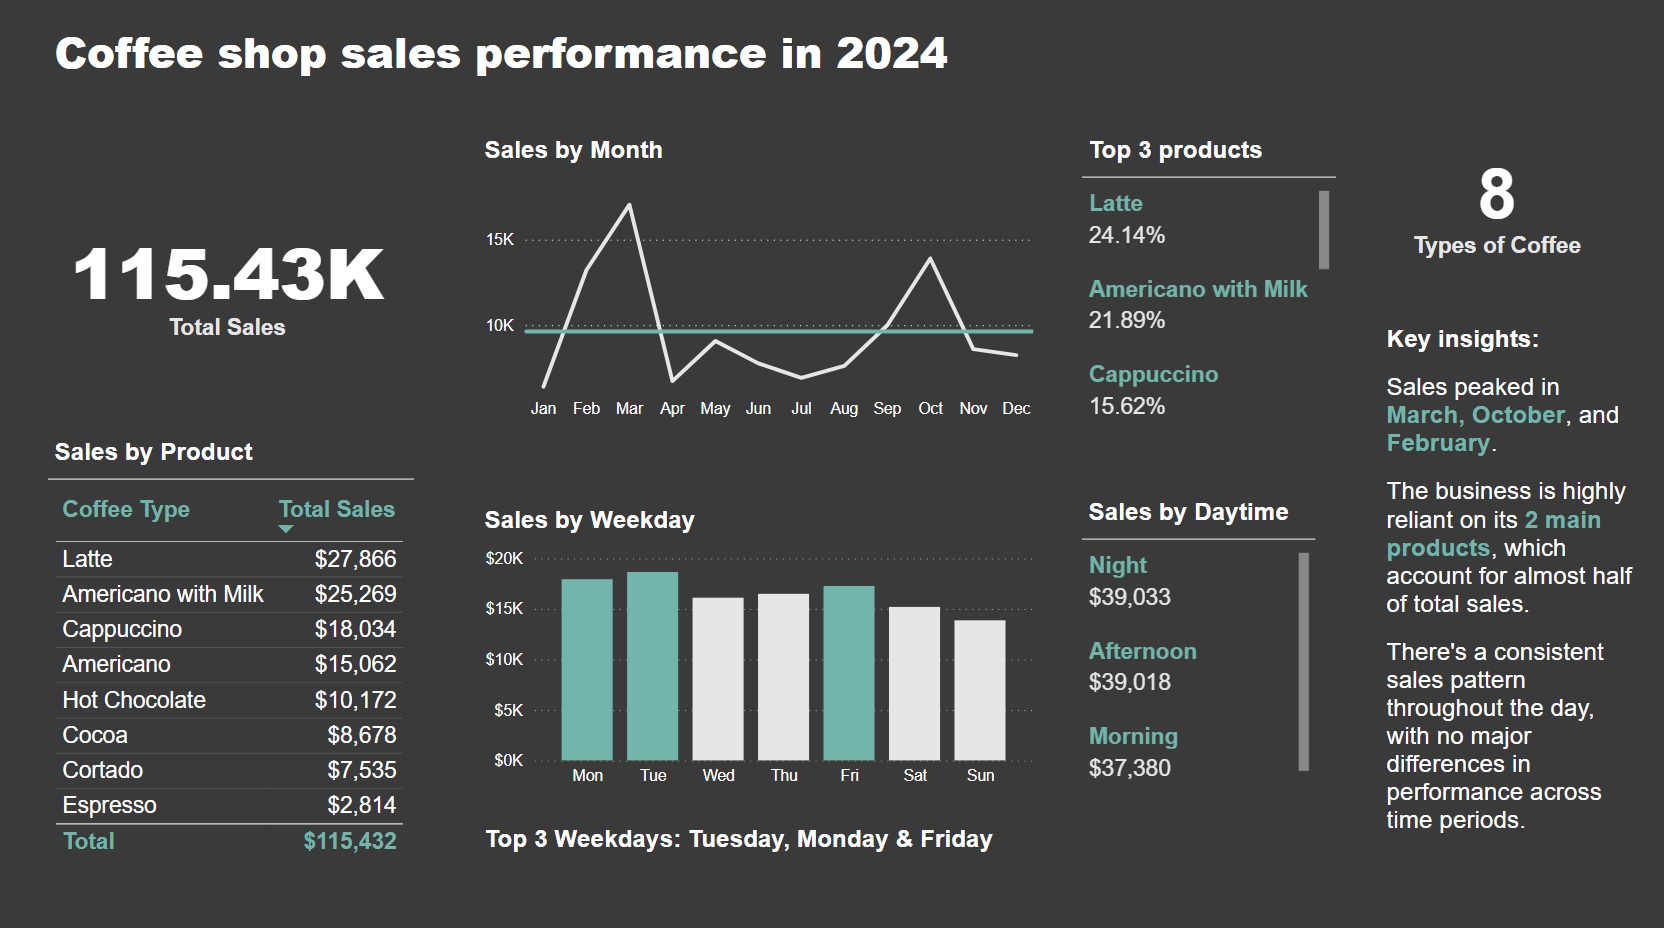

This screenshot's page, from the dashboard's own definition file:
{"tool":"powerbi","page":{"name":"Page 1","canvas":[1280,720],"ordinal":0},"visuals":[{"type":"card","fields":{"Values":["Sum(Table_1.money)"]},"box":[42.1,124.7,274.3,193.2],"z":0},{"type":"columnChart","title":"Sales by Weekday","fields":{"Category":["Table_1.Weekday"],"Y":["Sum(Table_1.money)"]},"box":[370.9,392.7,430.1,222.9],"z":1000},{"type":"multiRowCard","title":"Top 3 products","fields":{"Values":["Table_1.coffee_name","Sum(Table_1.money)"]},"box":[833.4,108.8,194.6,225.2],"z":2000},{"type":"card","fields":{"Values":["Count(Table_1.coffee_name)"]},"box":[1061.6,96.5,179.2,124.1],"z":3000},{"type":"textbox","box":[41.4,16.9,738.4,55.1],"z":4000},{"type":"tableEx","title":"Sales by Product","fields":{"Values":["Table_1.coffee_name","Sum(Table_1.money)"]},"box":[42.1,339.7,280.5,330.4],"z":5000},{"type":"multiRowCard","title":"Sales by Daytime","fields":{"Values":["Table_1.Time_of_Day","Sum(Table_1.money)"]},"box":[833.4,386,179.2,228.3],"z":6000},{"type":"textbox","box":[370.7,631.1,409,56.7],"z":7000},{"type":"textbox","box":[1061.6,248.2,199.1,422.8],"z":8000},{"type":"lineChart","title":"Sales by Month","fields":{"Category":["Table_1.Month_name"],"Y":["Sum(Table_1.money)"]},"box":[370.7,108.8,430.5,225.2],"z":9000}]}

Visuals, with their boxes in screenshot pixels (x1, y1, x2, y2), scaled from the page's 1280x720 canvas onto the 1664x928 screenshot:
card - Sum(Table_1.money): <bbox>55, 161, 411, 410</bbox>
"Sales by Weekday" columnChart: <bbox>482, 506, 1041, 793</bbox>
"Top 3 products" multiRowCard: <bbox>1083, 140, 1336, 430</bbox>
card - Count(Table_1.coffee_name): <bbox>1380, 124, 1613, 284</bbox>
textbox: <bbox>54, 22, 1014, 93</bbox>
"Sales by Product" tableEx: <bbox>55, 438, 419, 864</bbox>
"Sales by Daytime" multiRowCard: <bbox>1083, 498, 1316, 792</bbox>
textbox: <bbox>482, 813, 1014, 886</bbox>
textbox: <bbox>1380, 320, 1639, 865</bbox>
"Sales by Month" lineChart: <bbox>482, 140, 1042, 430</bbox>
